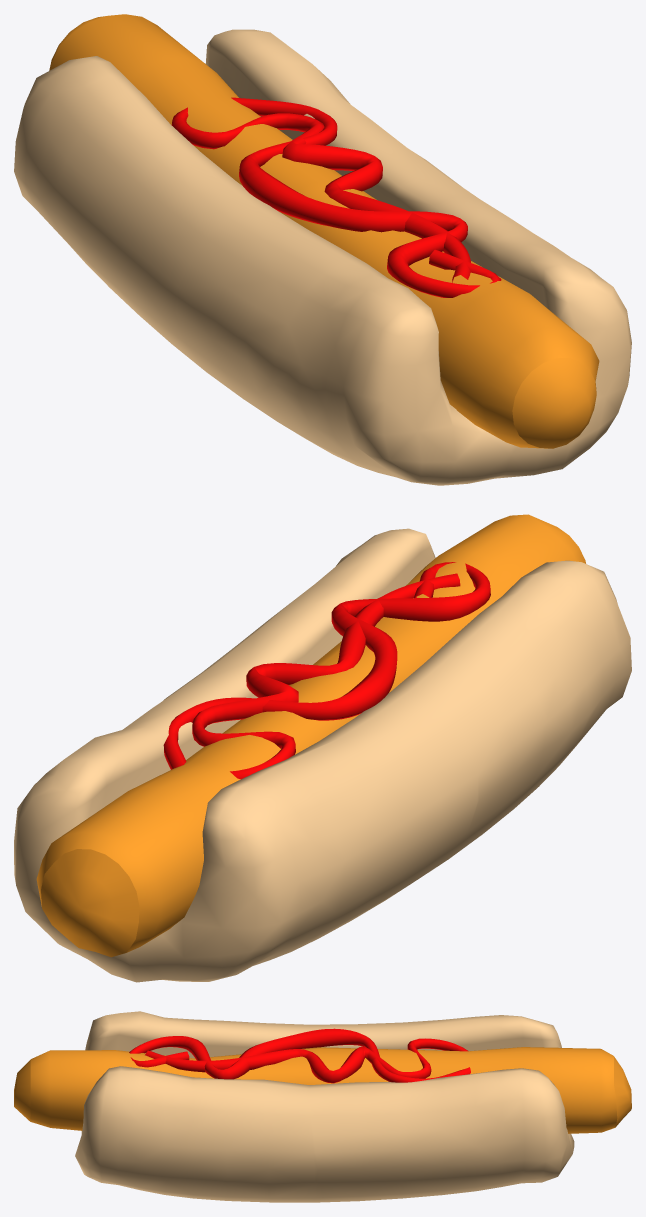
File: HotDog.fbx
3 views of the same model, one above another, from view 1: azimuth 30°, elevation 25°; view 2: azimuth 150°, elevation 25°; view 3: azimuth 270°, elevation 25° (orthographic). The views are drawn at different scales.
Parts seen in each view (by area): view 1: hotdog; view 2: hotdog; view 3: hotdog.
Boxes of the visible parts, <box> form: hotdog: <box>14,14,631,485</box>; hotdog: <box>14,514,631,982</box>; hotdog: <box>14,1011,631,1202</box>.
Size of the model in its own units: 5.94 by 2.17 by 1.55.
